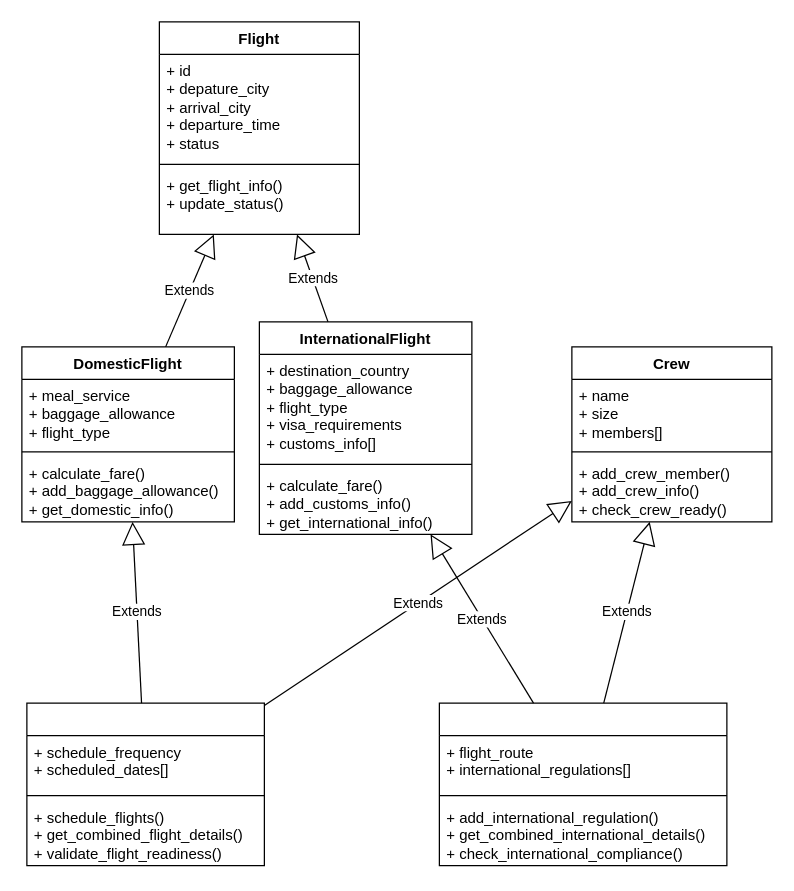
The diagram is 794 pixels wide and 891 high, and some of its shapes have lost their labels. The box of each missing label's shape, as (x1, y1, x2, y2) in pixels:
ScheduledDomesticFlight: (26, 702, 264, 866)
ScheduledInternationalFlight: (438, 702, 727, 866)
